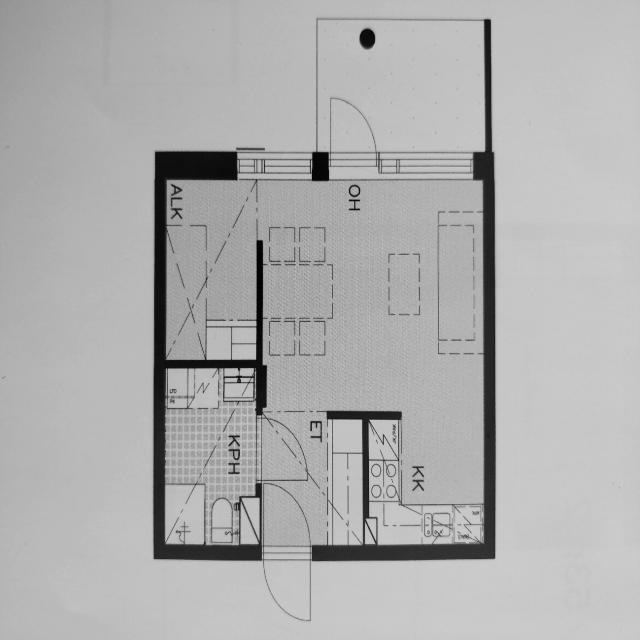door: (259, 477, 318, 628), (253, 412, 317, 491), (322, 88, 378, 174)
window: (230, 138, 316, 182), (374, 143, 478, 179)
zone: (258, 166, 483, 414), (159, 366, 262, 555), (161, 170, 259, 368), (365, 412, 484, 549)
